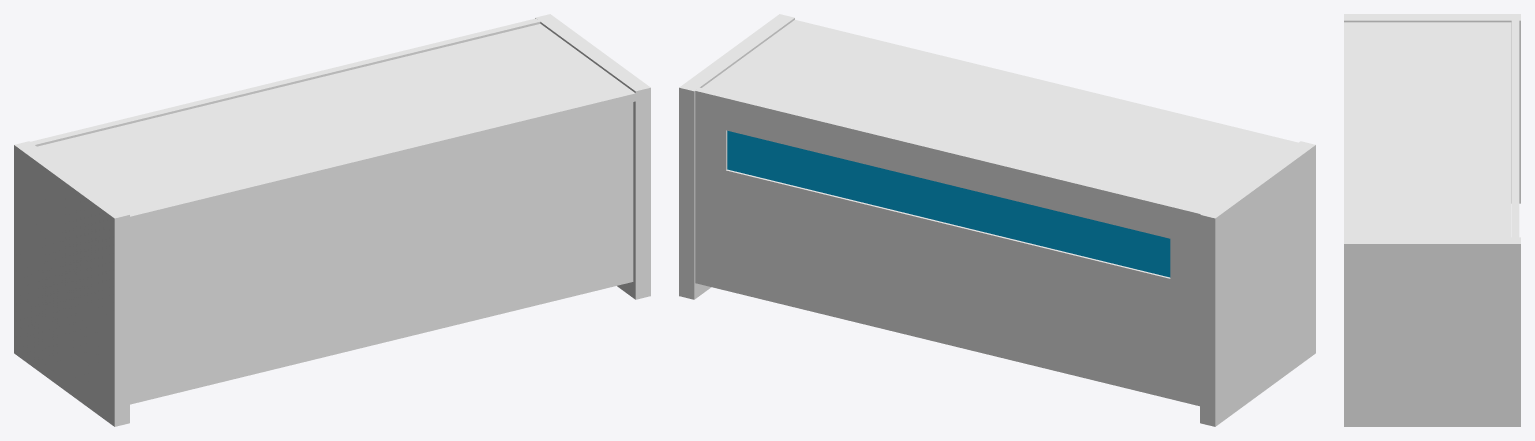
3 views of the same model, side by side, from view 1: azimuth 30°, elevation 25°; view 2: azimuth 150°, elevation 25°; view 3: azimuth 270°, elevation 25° (orthographic). The views are drawn at different scales.
Parts seen in each view (by area): view 1: mesh2_mesh2-geometry; view 2: mesh2_mesh2-geometry, mesh1_mesh1-geometry; view 3: mesh2_mesh2-geometry.
Boxes of the visible parts, bbox=[...] form: mesh2_mesh2-geometry: bbox=[14, 14, 650, 426]; mesh2_mesh2-geometry: bbox=[679, 14, 1315, 426]; mesh1_mesh1-geometry: bbox=[727, 130, 1170, 277]; mesh2_mesh2-geometry: bbox=[1344, 14, 1520, 426].
Size of the model in its own units: 0.8967 by 0.3331 by 0.2914.
